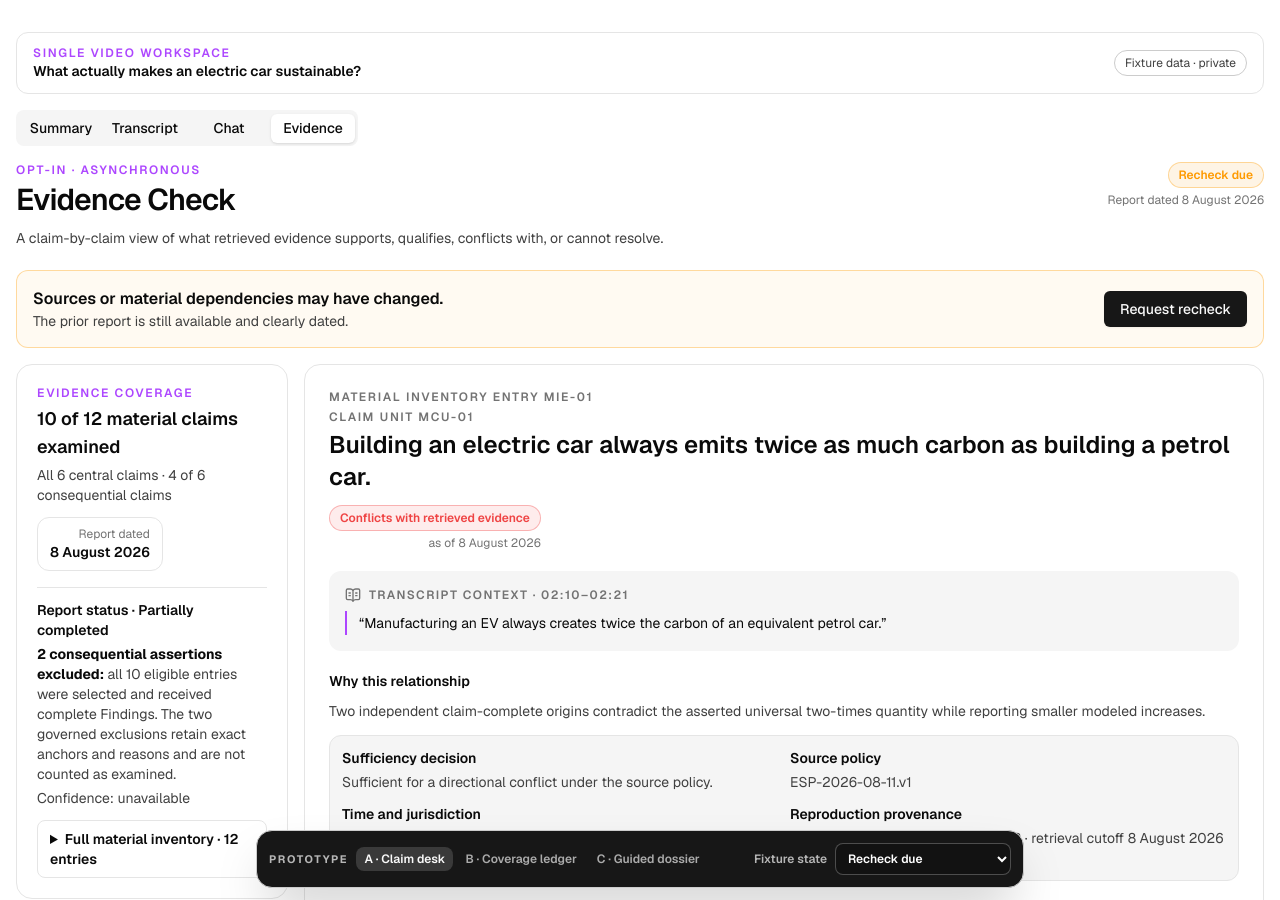
EvidenceWorkspacePrototype › keeps the prior dated report visible when recheck is due and while a recheck runs
Expected: the text "Recheck due" is shown, x1=1168 y1=162 x2=1264 y2=188
Expected: the text "Report dated 8 August 2026" is shown, x1=1108 y1=192 x2=1264 y2=208
Click the button "Request recheck".
click(1176, 309)  # box x1=1104 y1=291 x2=1247 y2=327
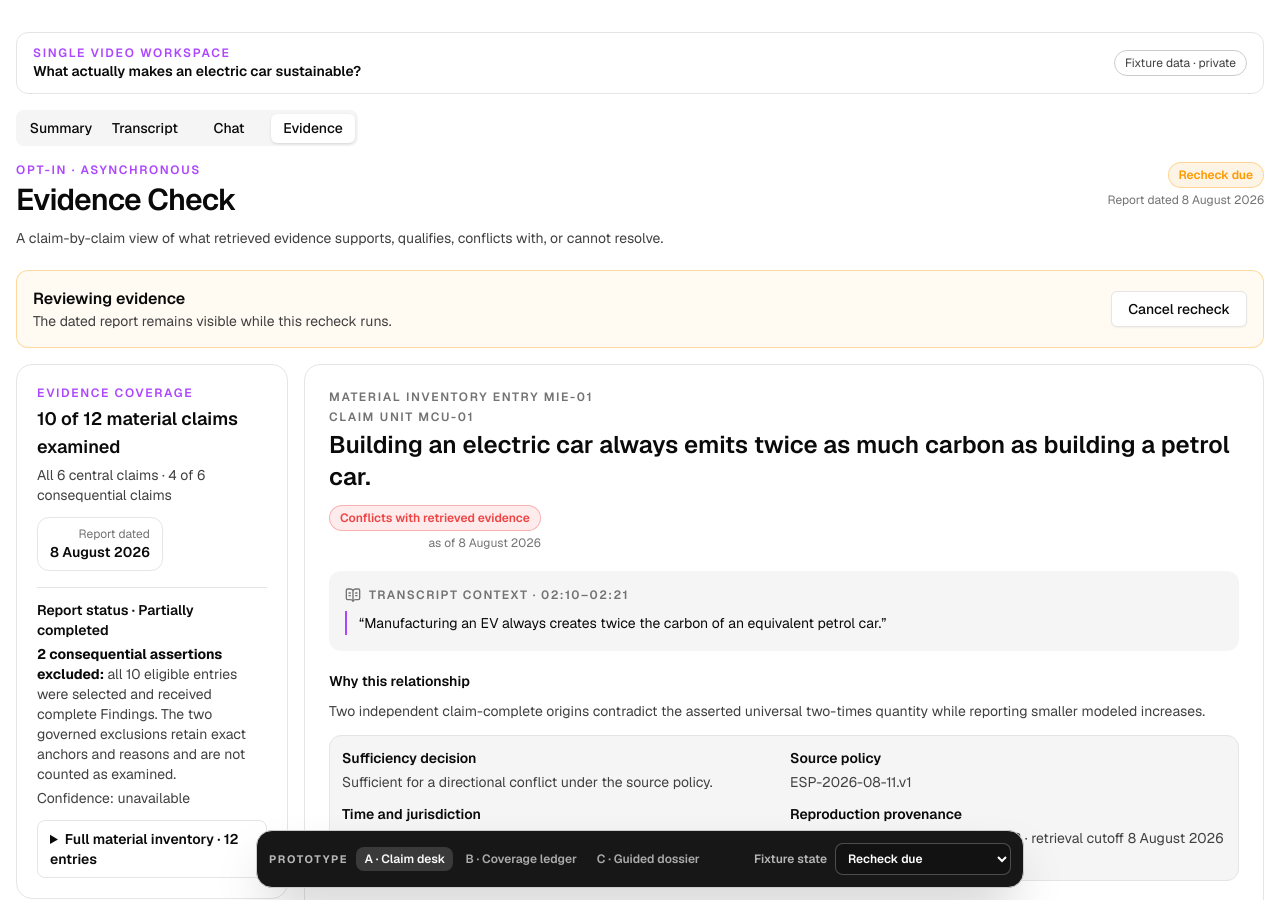
Expected: the text "Report dated 8 August 2026" is shown, x1=1108 y1=192 x2=1264 y2=208
Expected: the message shows "Reviewing evidence", x1=33 y1=288 x2=185 y2=309
Expected: the button "Cancel recheck" is shown, x1=1111 y1=291 x2=1247 y2=327
